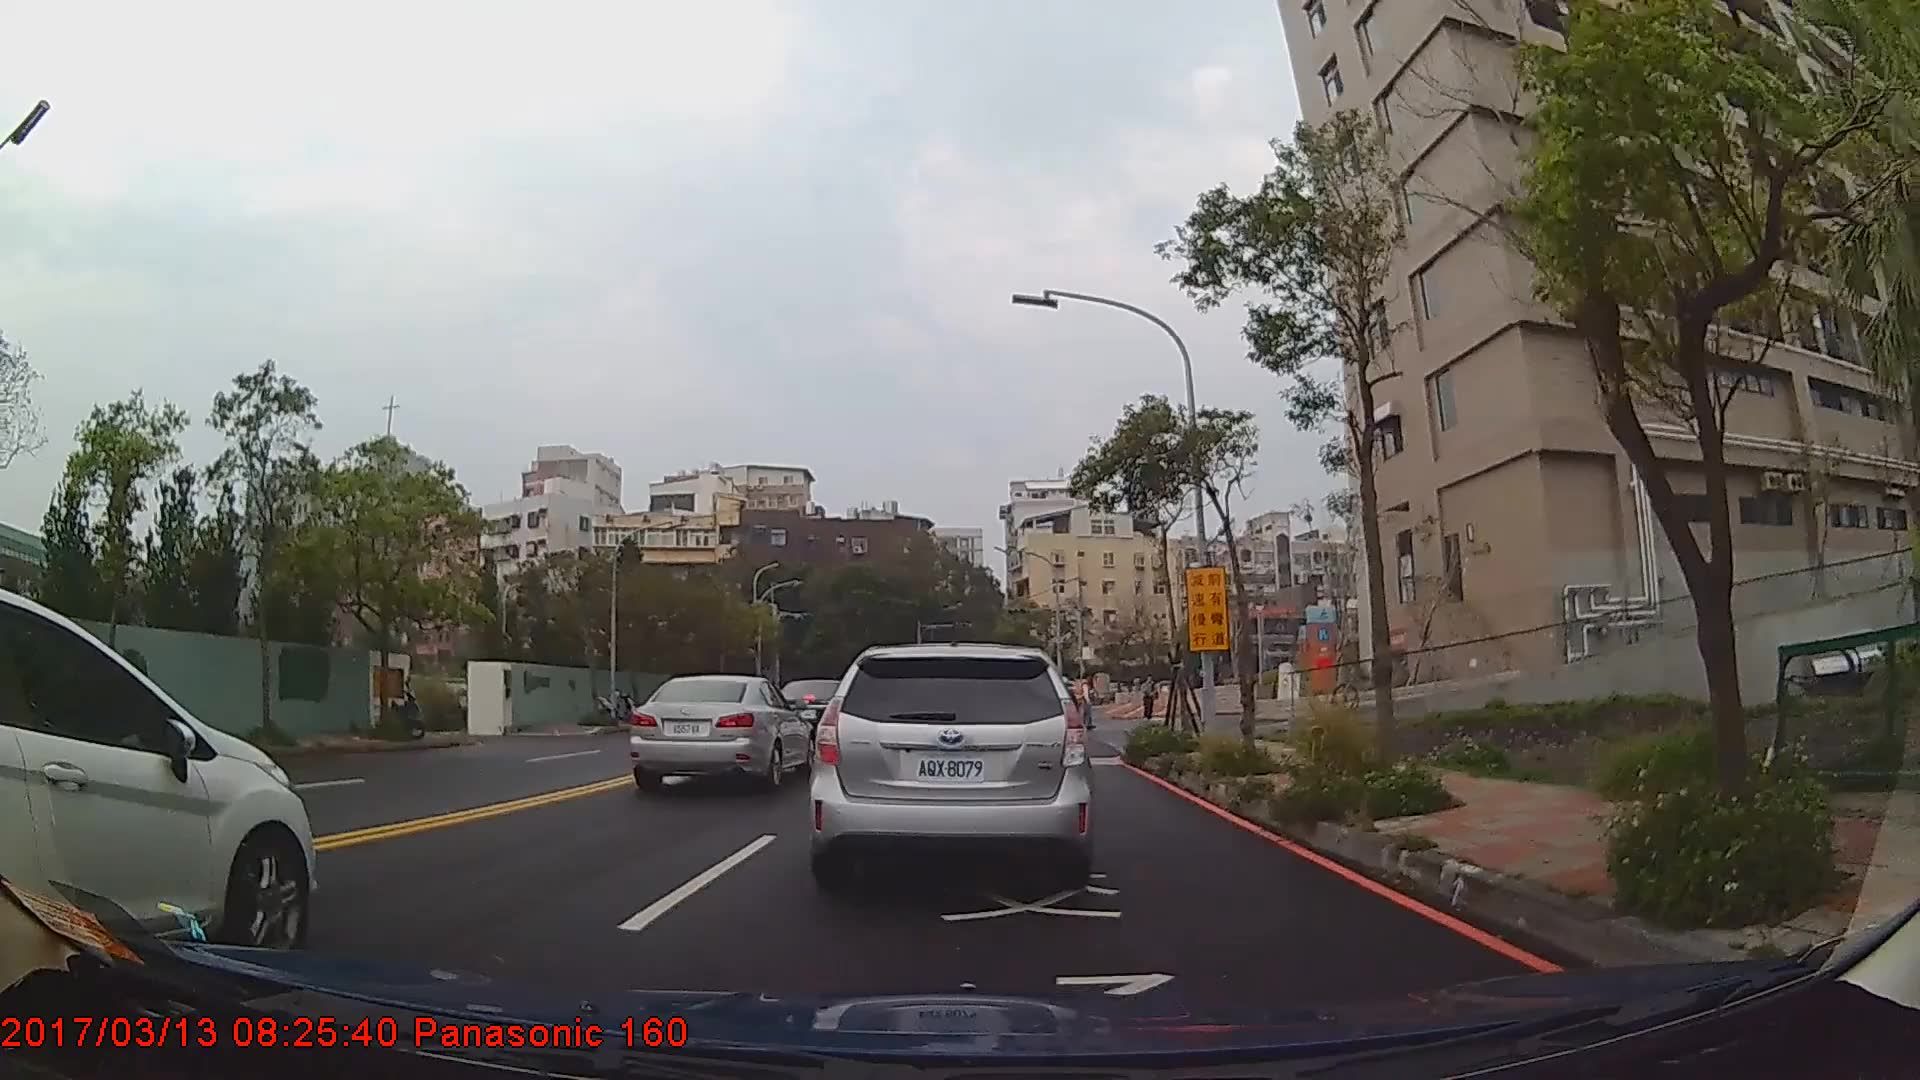pedestrian: (1078, 669, 1098, 730)
vehicle: (0, 584, 315, 963), (810, 637, 1092, 885), (627, 672, 815, 787)
